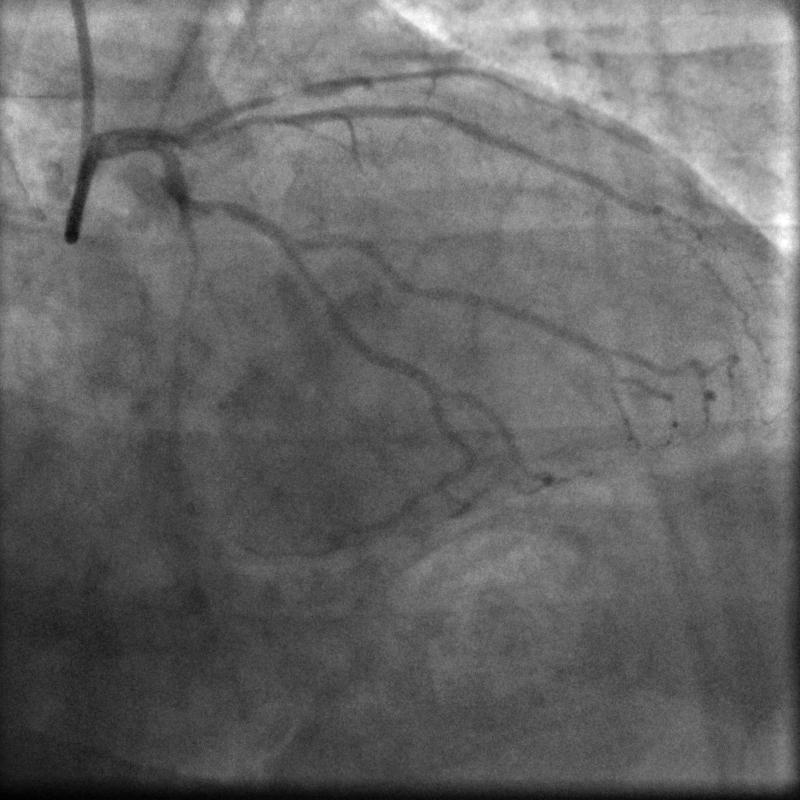Stenosis: (198, 192, 228, 224)
